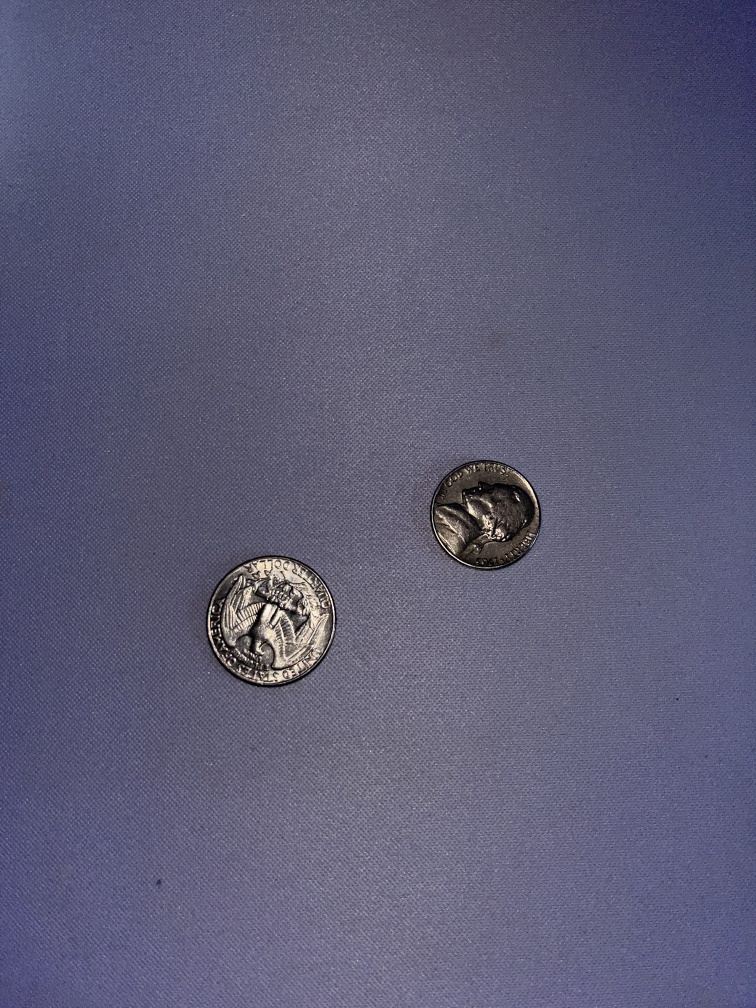nickel: (421, 455, 547, 576)
quarter: (204, 550, 340, 692)
